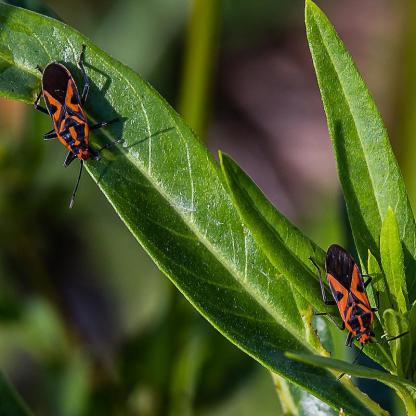beetle: (24, 50, 109, 165), (314, 233, 385, 353)
